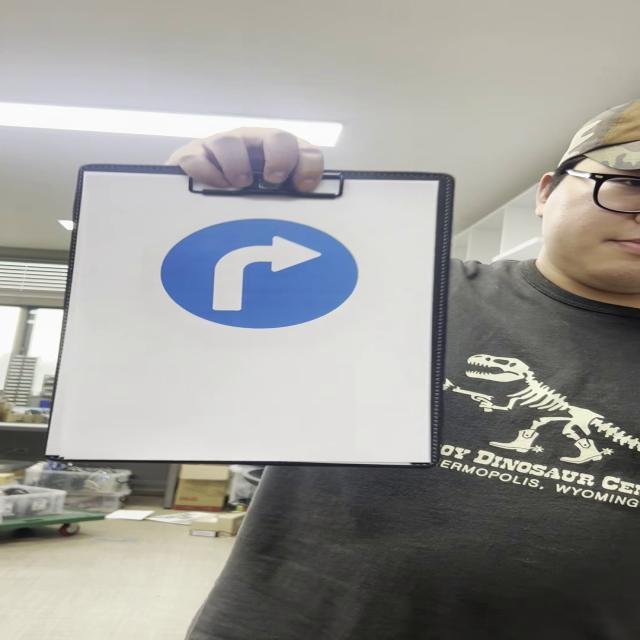right: (161, 219, 361, 328)
